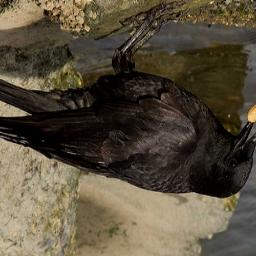Crow: (0, 2, 256, 200)
